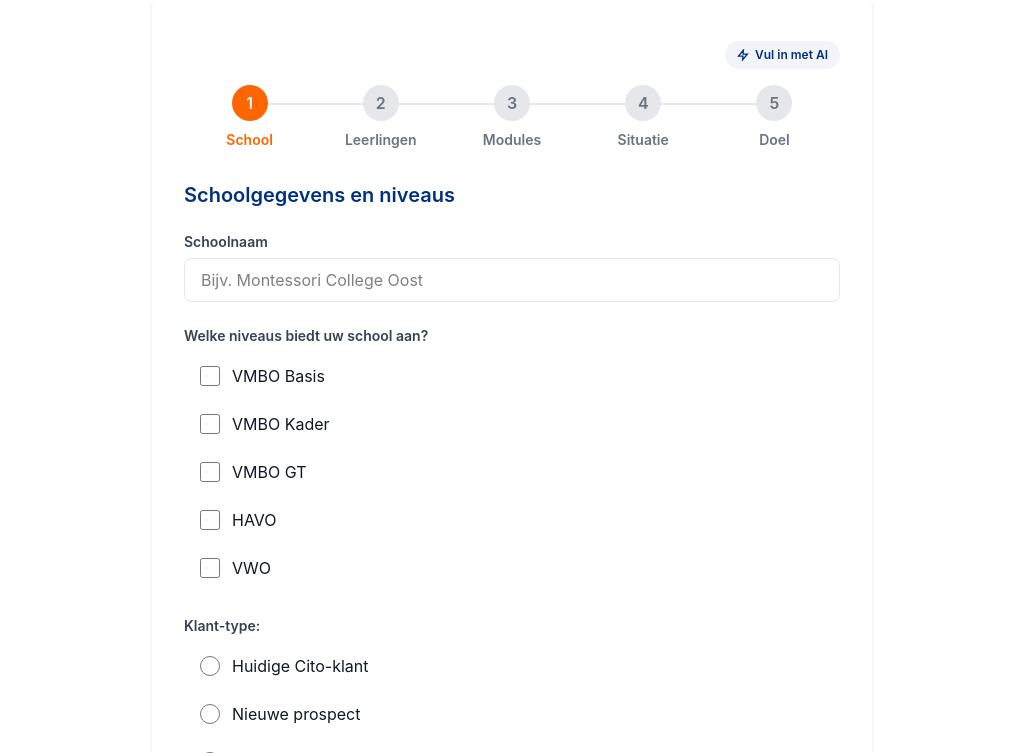
Test: Wizard Navigation › navigating forward then back preserves previously entered data
// Fill school name
In the field labelled "Schoolnaam": coordinates (512, 280) [184,258,840,302], type "Test School"
// select HAVO
Click the checkbox labelled "HAVO": coordinates (210, 520) [200,510,220,530]
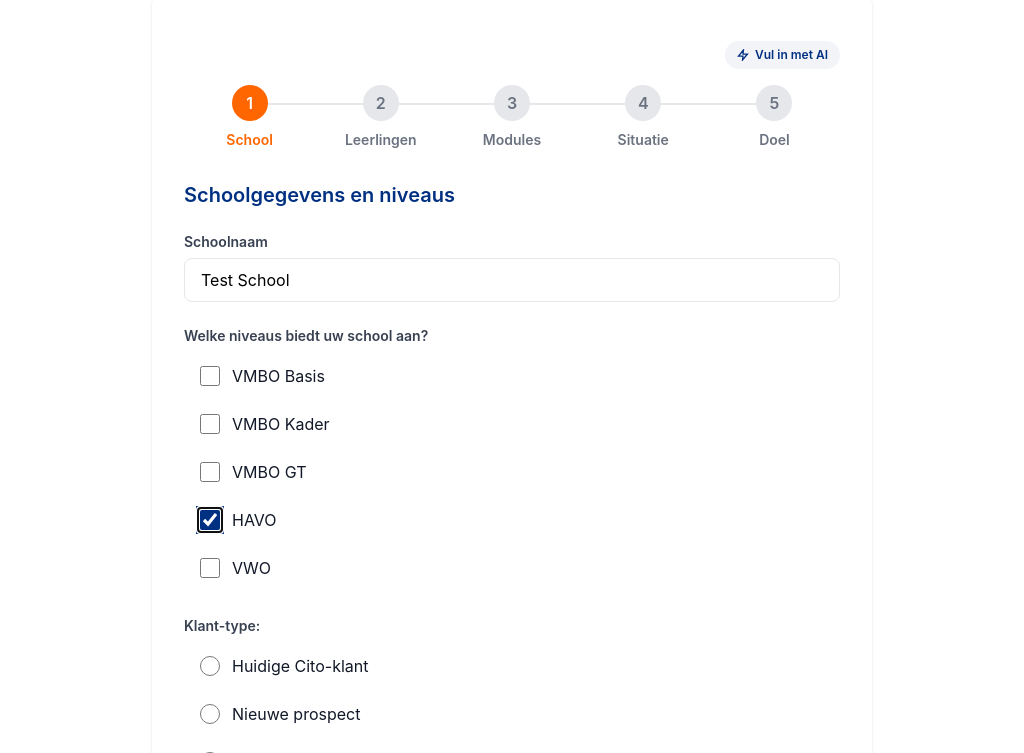
// Phase 27 Plan 03 (R3 + R4) — Step 1 has 3 additional required fields.
Click the radio button labelled "Huidige Cito-klant": coordinates (210, 666) [200,656,220,676]
(page scrolled)
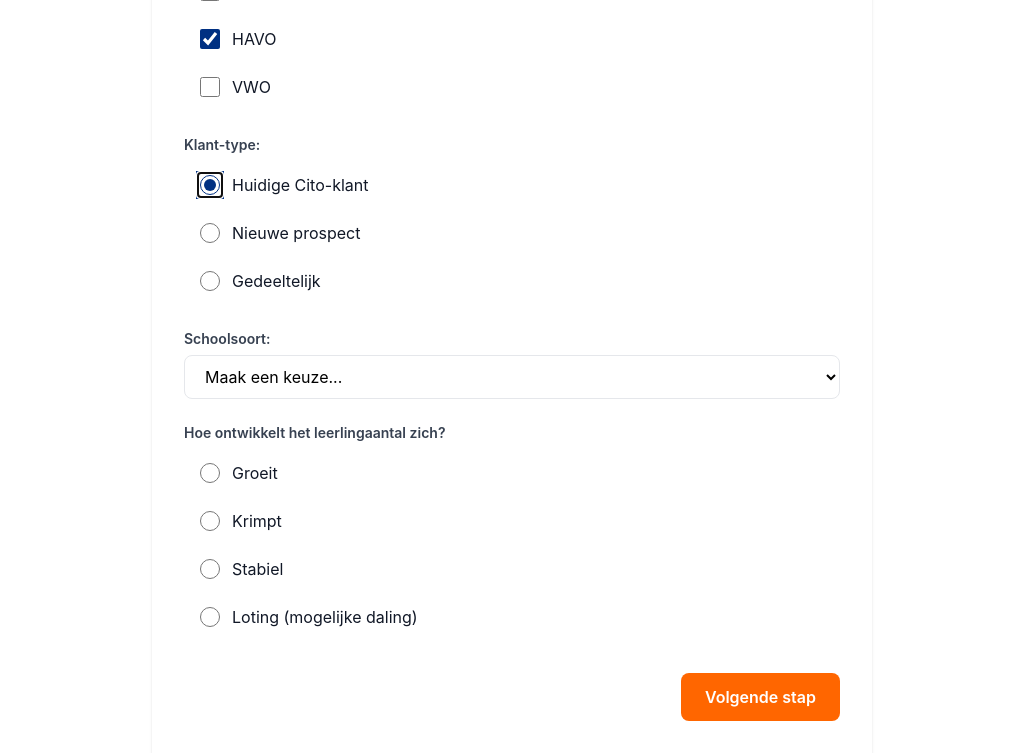
Select "Regulier" in the dropdown labelled "Schoolsoort:": coordinates (512, 377) [184,355,840,399]
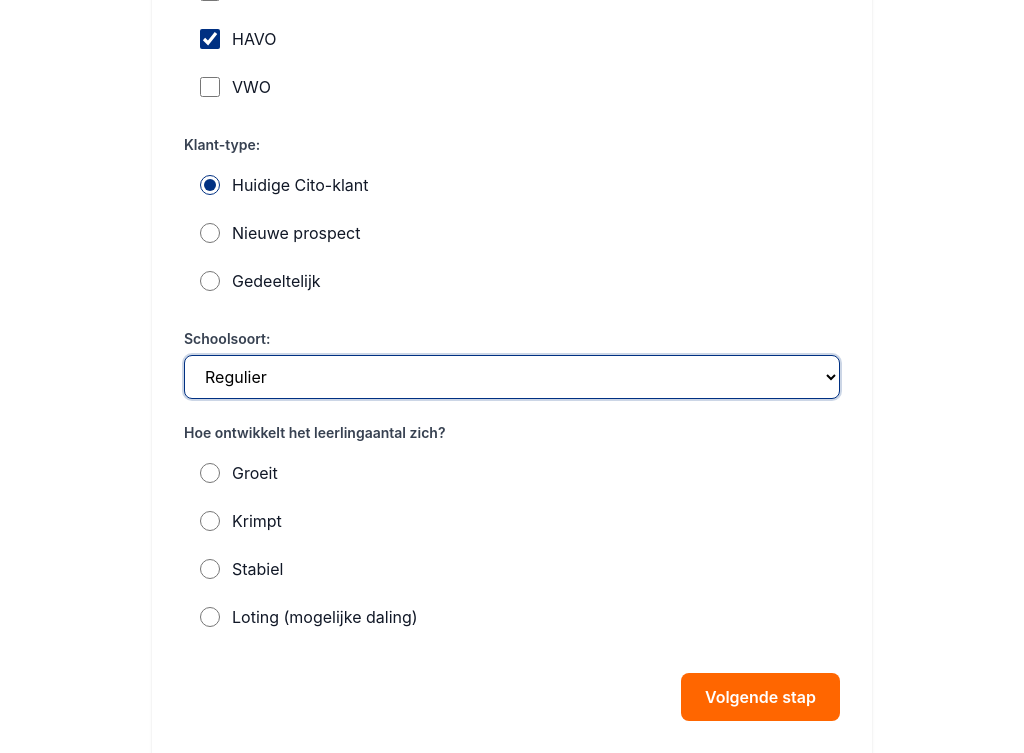
Click the radio button labelled "Groeit": coordinates (210, 473) [200,463,220,483]
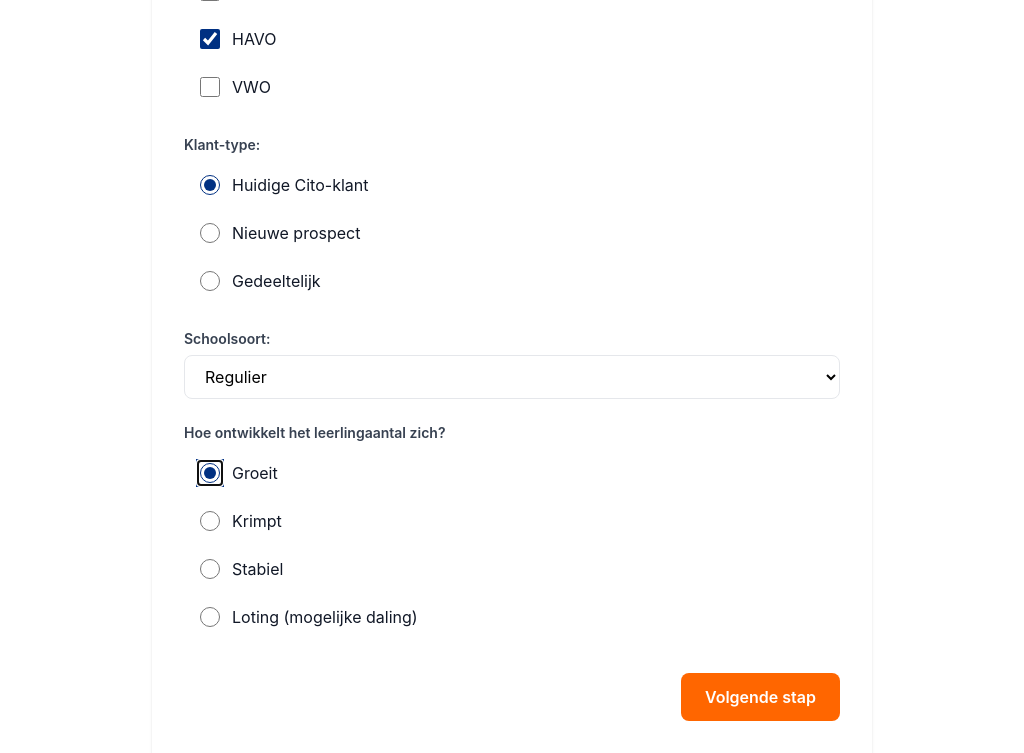
// Navigate forward
Click the button "Volgende stap": coordinates (760, 697) [681,673,840,721]
(page scrolled)
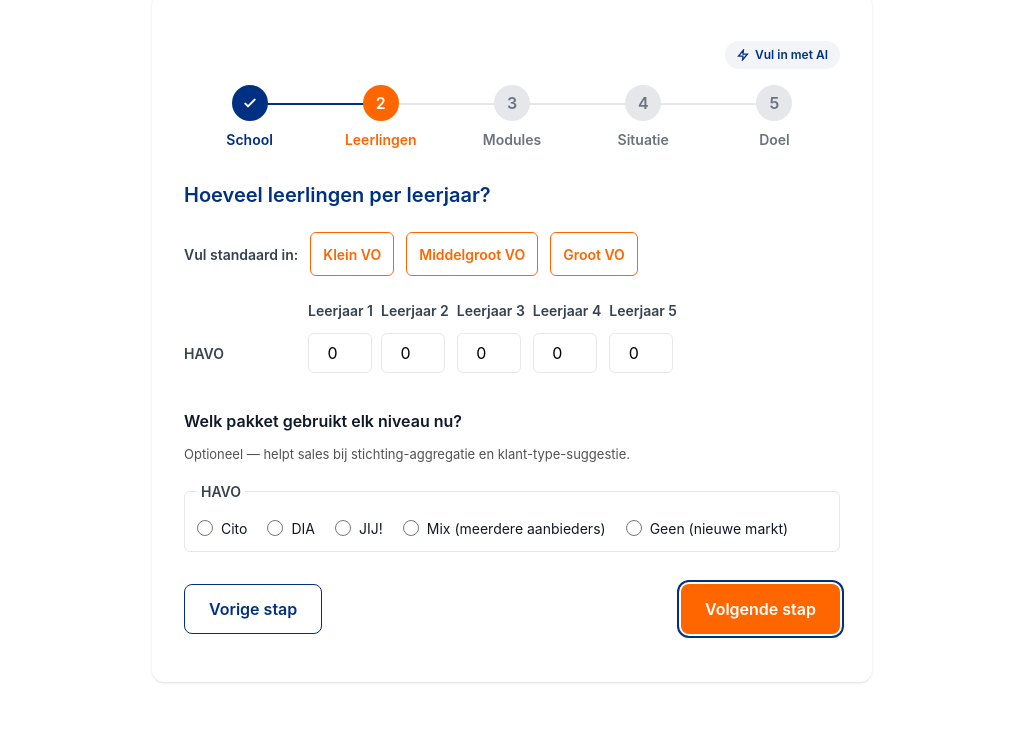
expect the heading "Hoeveel leerlingen per leerjaar?" is shown: met, box [184,183,491,207]
// Navigate back
Click the button "Vorige stap": coordinates (253, 608) [184,584,322,634]
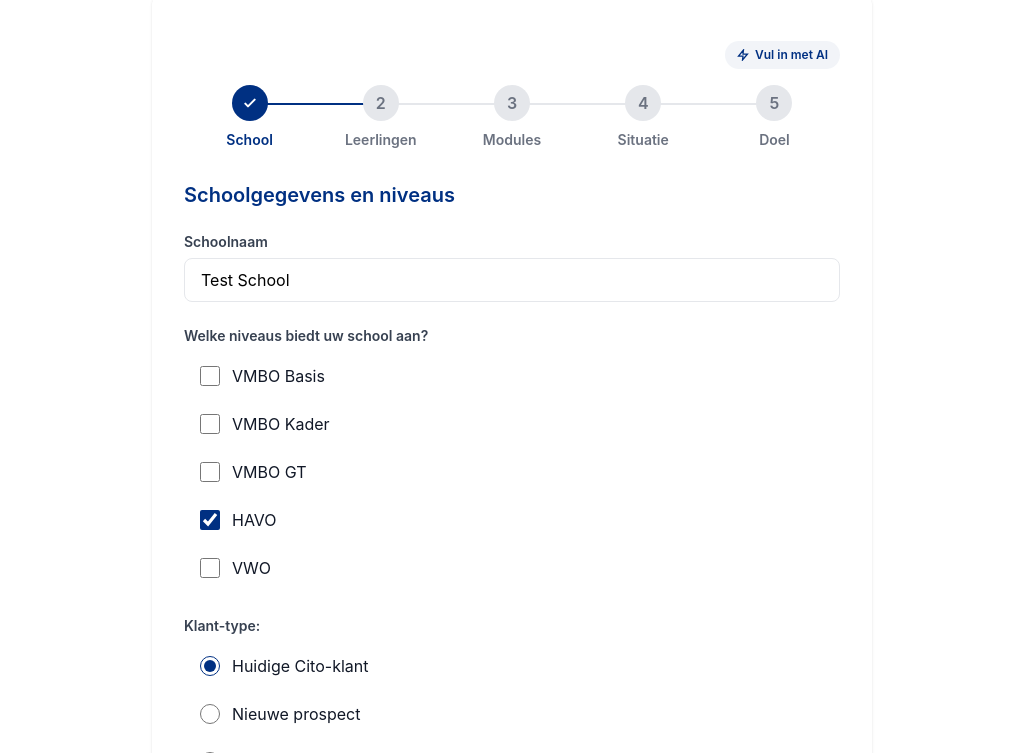
expect the heading "Schoolgegevens en niveaus" is shown: met, box [184,183,455,207]
